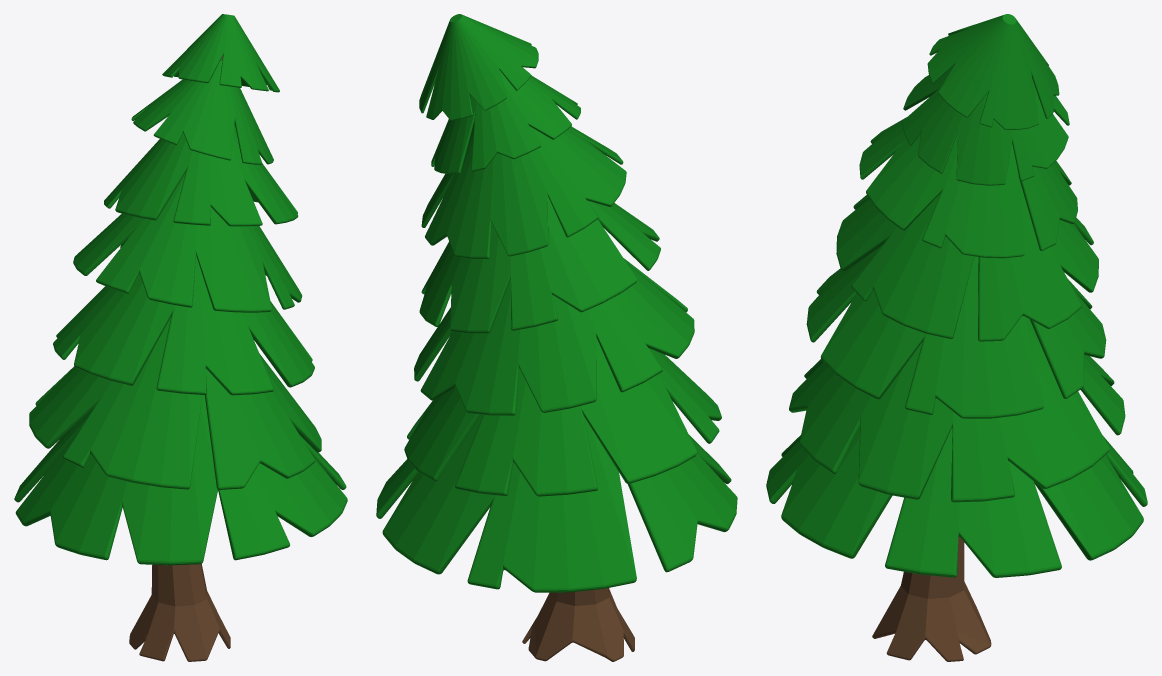
Rendered from LowPolySpruce1.fbx.
3 renders of one model, left to right at view 1: azimuth 30°, elevation 25°; view 2: azimuth 150°, elevation 25°; view 3: azimuth 270°, elevation 25°, orthographic. The views are drawn at different scales.
Parts seen in each view (by area): view 1: Cylinder, Cylinder.001, Cylinder.002, Cylinder.003, Cylinder.004, Cylinder.005, Cylinder.007, Cylinder.006; view 2: Cylinder, Cylinder.001, Cylinder.002, Cylinder.003, Cylinder.004, Cylinder.006, Cylinder.005, Cylinder.007; view 3: Cylinder, Cylinder.001, Cylinder.002, Cylinder.003, Cylinder.004, Cylinder.006, Cylinder.005, Cylinder.007.
Part boxes in pixels (bbox=[...]): Cylinder: bbox=[14, 395, 347, 565]; Cylinder.001: bbox=[29, 317, 321, 489]; Cylinder.002: bbox=[53, 256, 314, 395]; Cylinder.003: bbox=[73, 173, 302, 312]; Cylinder.004: bbox=[104, 125, 298, 226]; Cylinder.005: bbox=[131, 59, 273, 164]; Cylinder.007: bbox=[129, 56, 230, 661]; Cylinder.006: bbox=[162, 14, 279, 92]; Cylinder: bbox=[376, 414, 737, 592]; Cylinder.001: bbox=[404, 337, 721, 496]; Cylinder.002: bbox=[414, 258, 694, 415]; Cylinder.003: bbox=[419, 196, 660, 333]; Cylinder.004: bbox=[421, 123, 626, 258]; Cylinder.006: bbox=[419, 14, 538, 120]; Cylinder.005: bbox=[431, 70, 580, 174]; Cylinder.007: bbox=[522, 588, 634, 661]; Cylinder: bbox=[766, 426, 1147, 577]; Cylinder.001: bbox=[789, 317, 1125, 502]; Cylinder.002: bbox=[806, 244, 1106, 418]; Cylinder.003: bbox=[836, 178, 1098, 341]; Cylinder.004: bbox=[859, 117, 1077, 258]; Cylinder.006: bbox=[927, 14, 1059, 129]; Cylinder.005: bbox=[902, 65, 1069, 185]; Cylinder.007: bbox=[872, 537, 991, 661].
Bounding box in the file's own units: 4.39 × 4.43 × 8.55.
